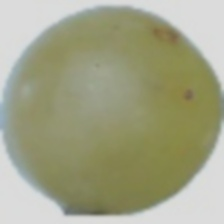grapes: (25, 40, 208, 196)
